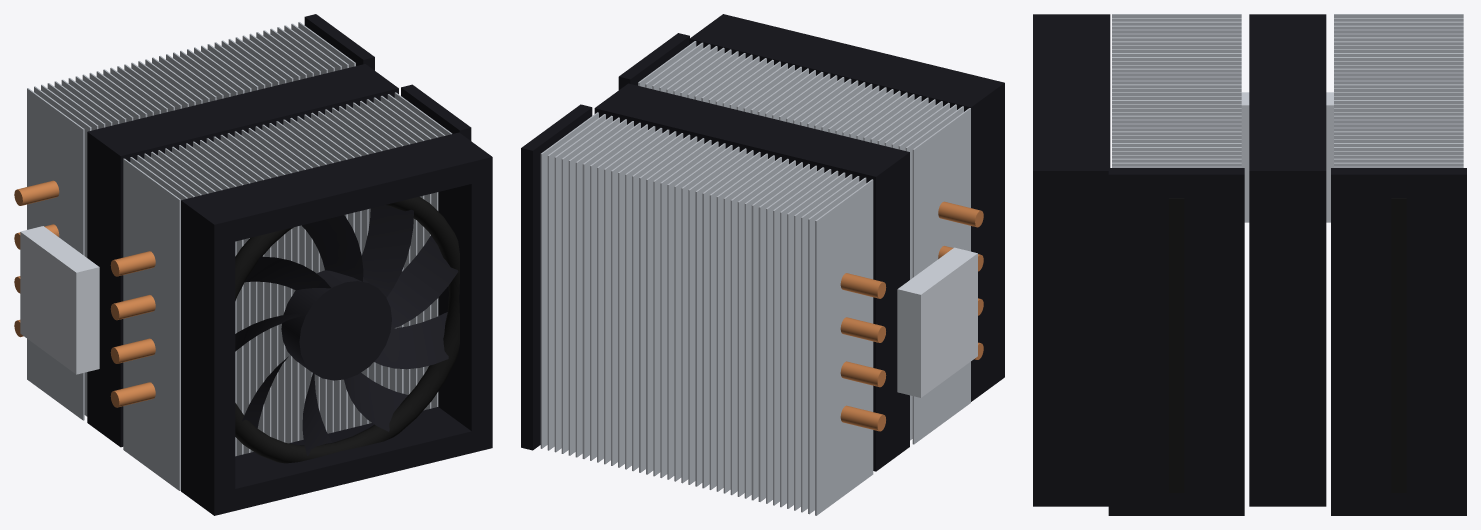
The model's file is cooler_dual_tower.glb.
The picture shows the model from 3 angles, left to right: view 1: azimuth 30°, elevation 25°; view 2: azimuth 150°, elevation 25°; view 3: azimuth 270°, elevation 25°; orthographic projection. The views are drawn at different scales.
Visible parts, largest first — view 1: fins, fan_frame_1, spin_fan_1, fan_frame_0, base, fan_ring_1, heatpipes, top_cover (×2); view 2: fins, fan_frame_0, fan_frame_1, base, top_cover (×2), heatpipes; view 3: top_cover (×2), fins, fan_frame_0, fan_frame_1, rgb_top (×2), base.
Boxes of the visible parts, box(x1,y1,x2,y2) form: fins: box(27, 22, 452, 490); fan_frame_1: box(181, 132, 492, 515); spin_fan_1: box(235, 205, 458, 455); fan_frame_0: box(87, 64, 398, 447); base: box(20, 226, 99, 374); fan_ring_1: box(235, 196, 459, 463); heatpipes: box(14, 180, 155, 407); top_cover (×2): box(304, 14, 471, 140); fins: box(540, 41, 970, 515); fan_frame_0: box(594, 83, 909, 471); fan_frame_1: box(689, 14, 1004, 401); base: box(897, 247, 977, 397); top_cover (×2): box(521, 33, 689, 450); heatpipes: box(840, 201, 983, 431); top_cover (×2): box(1108, 168, 1466, 515); fins: box(1112, 14, 1463, 167); fan_frame_0: box(1249, 14, 1326, 506); fan_frame_1: box(1033, 14, 1110, 506); rgb_top (×2): box(1169, 198, 1406, 492); base: box(1241, 92, 1333, 222).
Bounding box in the file's own units: 14.95 × 12.2 × 14.05.
